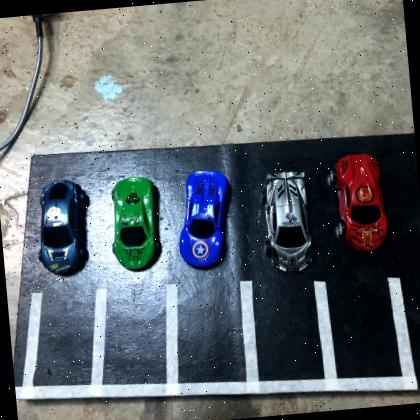Car: (173, 167, 233, 270), (328, 152, 389, 253), (259, 168, 313, 274), (33, 177, 89, 278), (106, 173, 160, 272)
